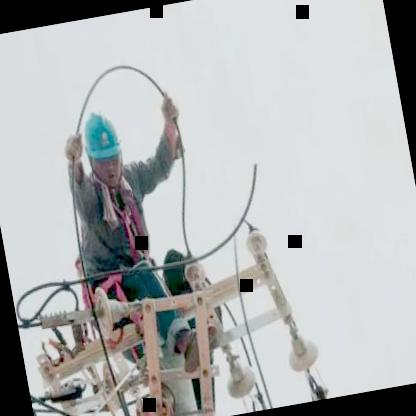helmet: (75, 102, 132, 194)
